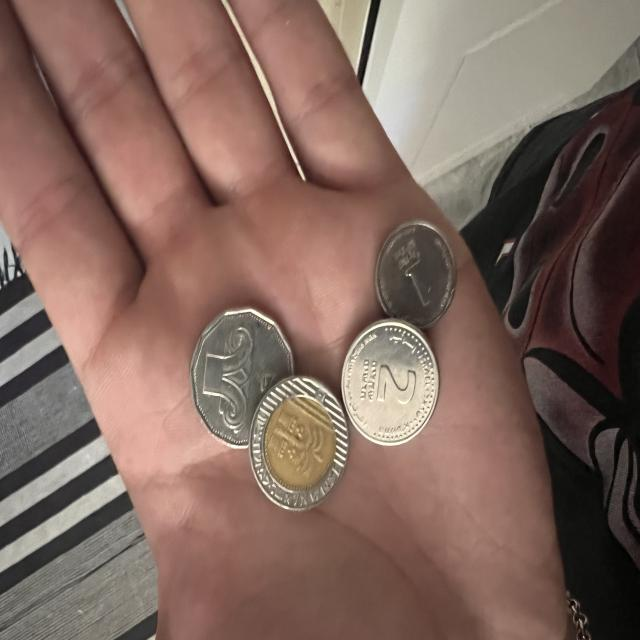1-shekel: (371, 219, 455, 335)
10-shekel: (253, 371, 345, 514)
2-shekel: (338, 316, 441, 454)
5-shekel: (184, 304, 290, 449)
